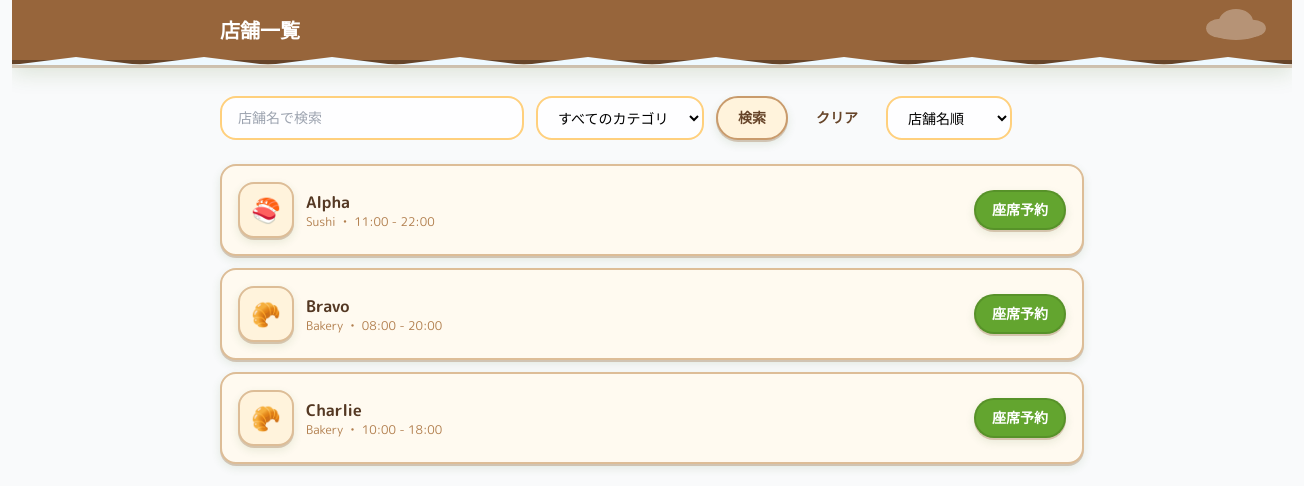
StoresPage 検索・絞り込み・ソート › 検索ボタンを押すとカテゴリで絞り込まれる
Expected: the text "Charlie" is shown, 306,399 -> 362,421
Select "Sushi" in the 1st dropdown showing "すべてのカテゴリ" at coordinates (620, 118), box 536,96 -> 704,140
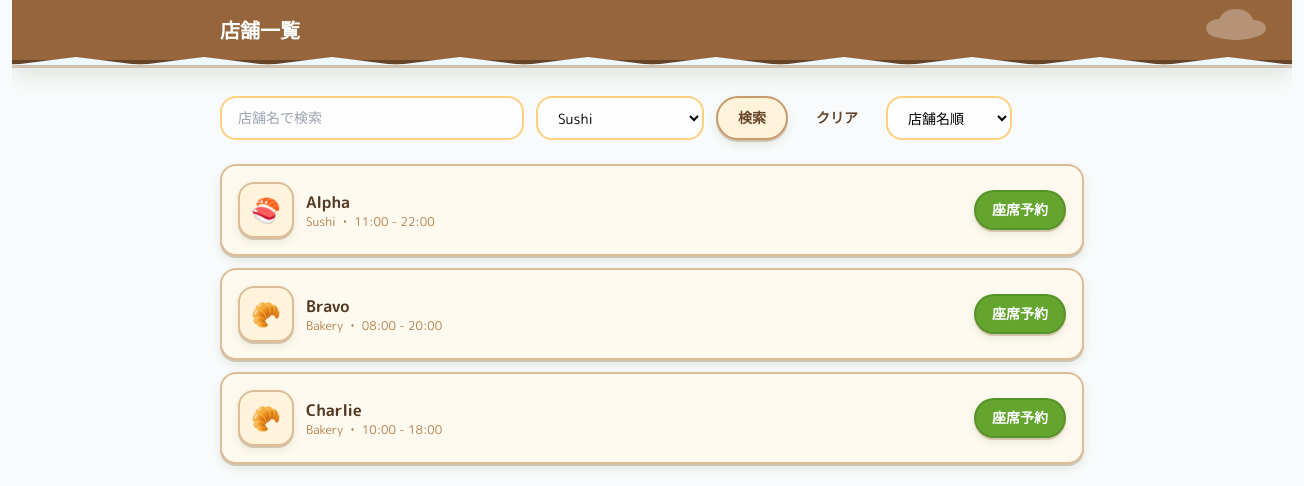
Click the button "検索" at coordinates (752, 118), box 716,96 -> 788,140
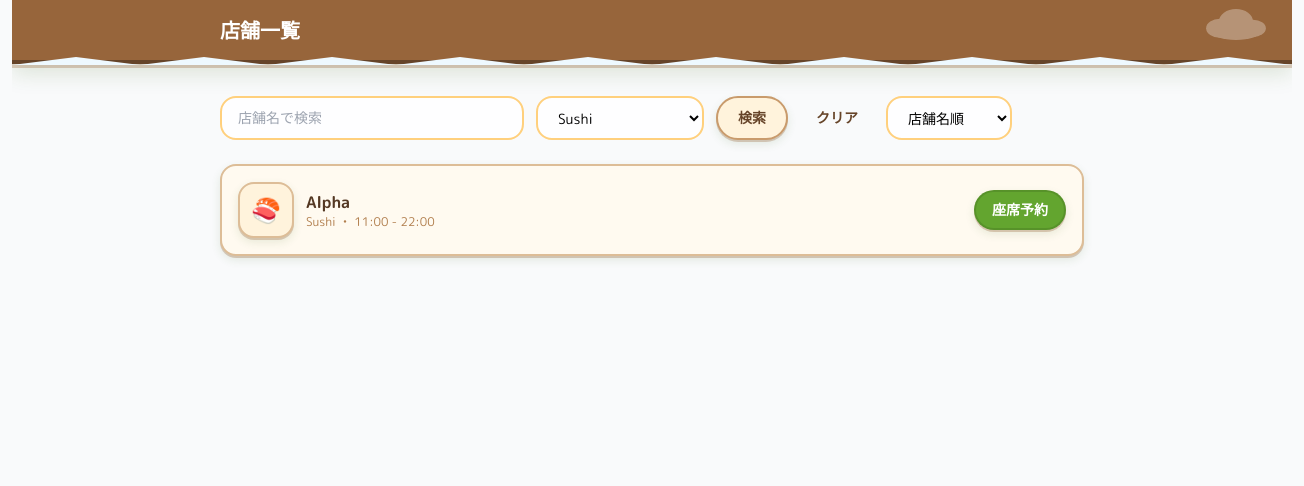
Expected: the text "Alpha" is shown, 306,191 -> 350,213
Now the button "Charlie" is gone
Now the button "Bravo" is gone
